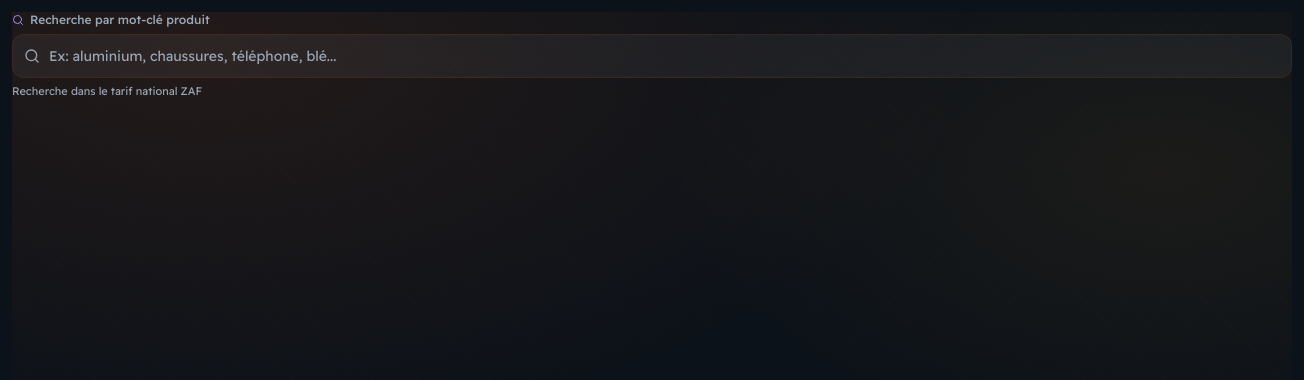
Test case: ProductKeywordSearch › cherche dans le tarif du pays de destination, lu au socle
Later steps or results of the test are not shown.
Type "cigarettes" into the field.
click(652, 56); type("cigarettes")  # box [12,34,1292,78]
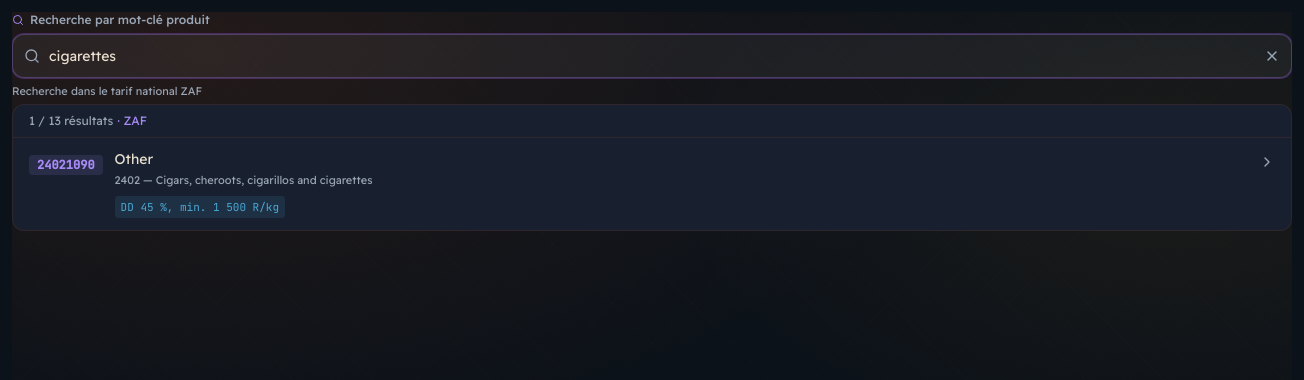
Expected: the text "1 / 13" is shown, [29,113,61,128]
Expected: the text "2402 — Cigars, cheroots, cigarillos and cigarettes" is shown, [115,173,372,187]
Expected: the text "DD 45 %, min. 1 500 R/kg" is shown, [115,196,285,218]
